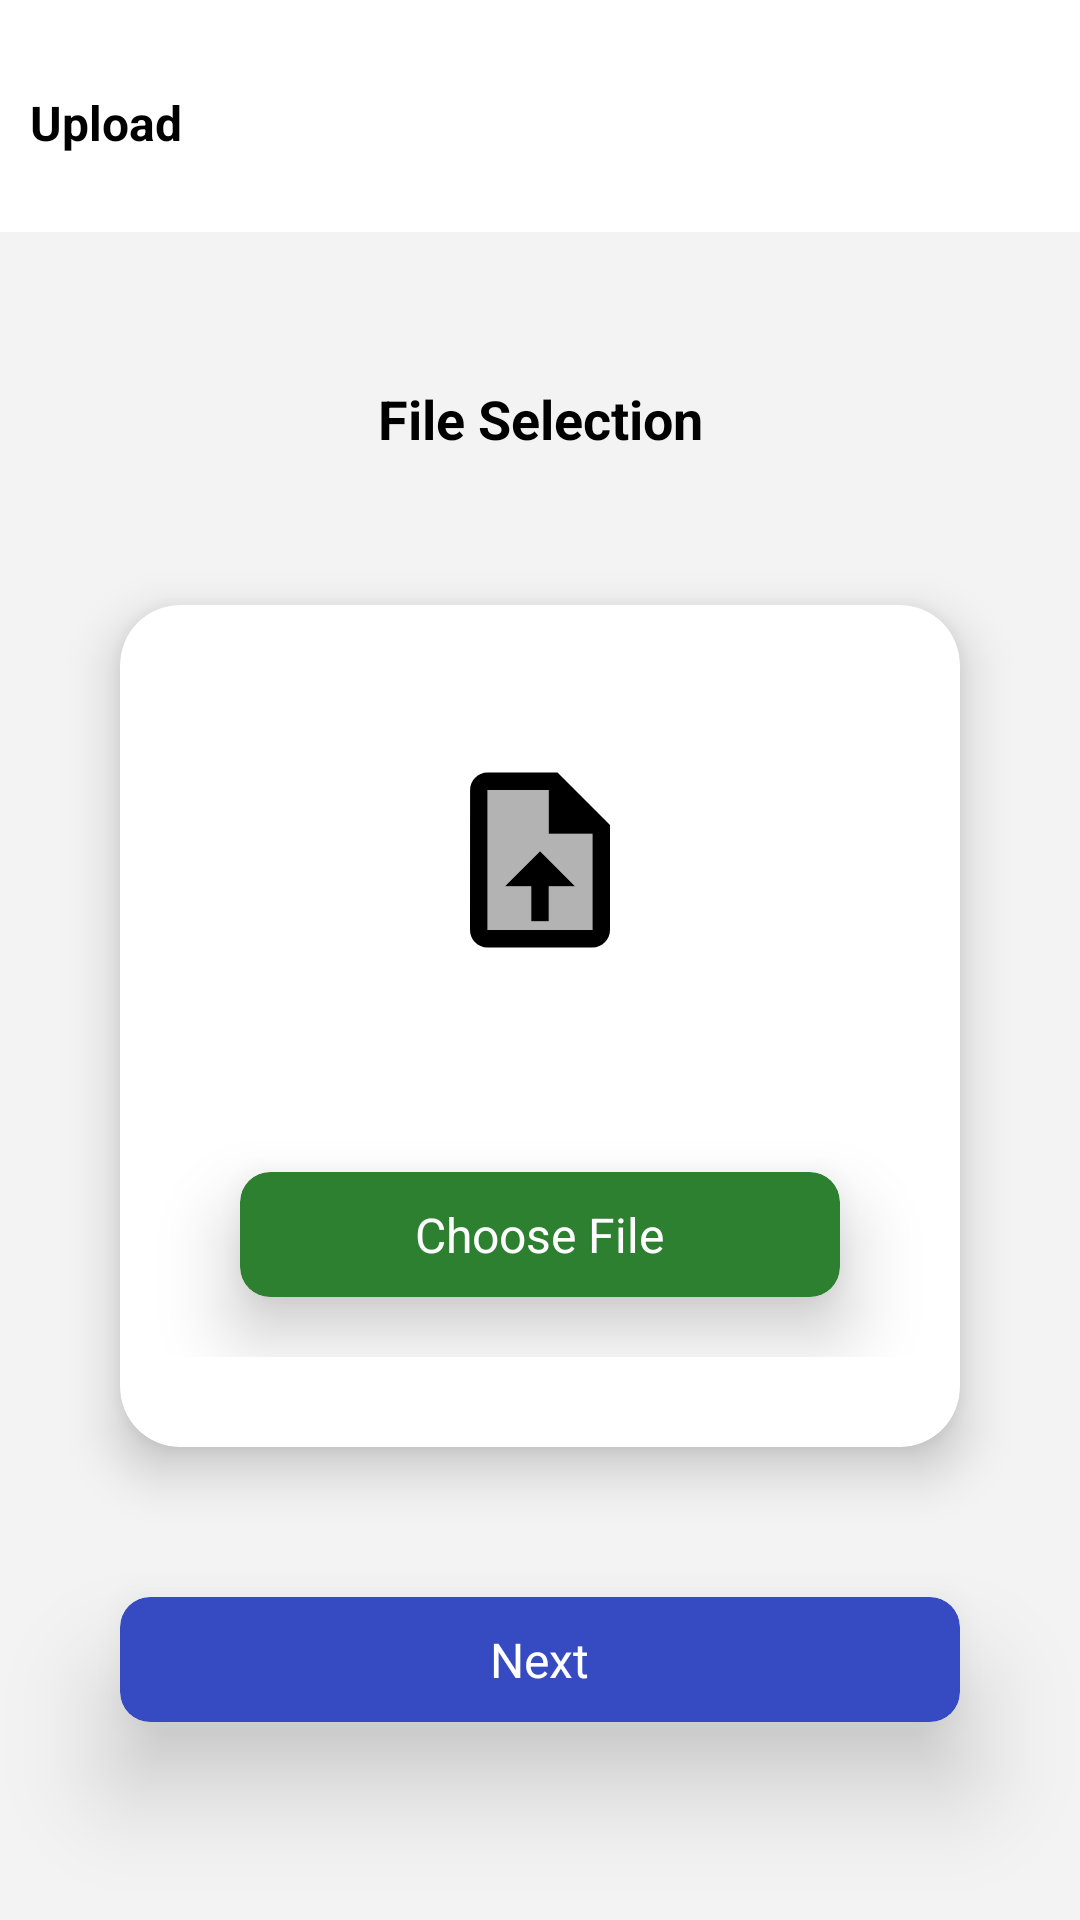

Named icons in this screenshot (1080*1920) and their bounding boxes, (x1, y1, x2, y2):
File Upload Clipart: (470, 772, 610, 948)
